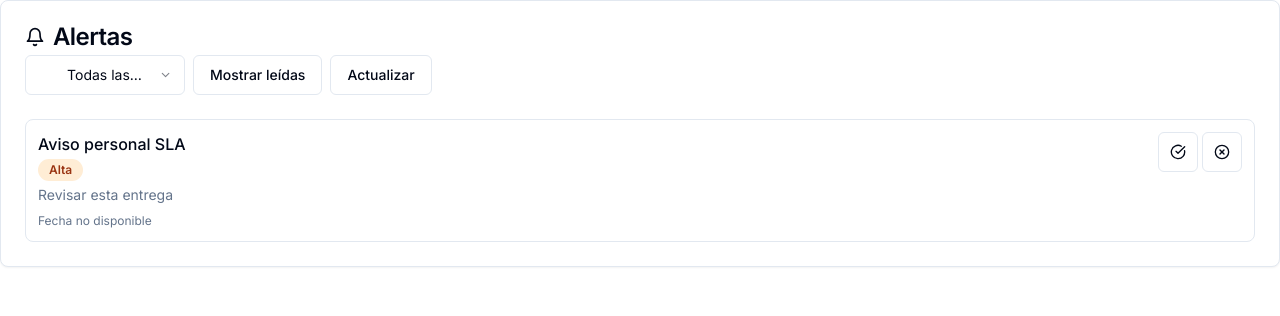
discard uses DELETE and keeps the row visible after a rejected request
The image size is (1280, 316).
Check: the text "Aviso personal SLA" is shown, box [38, 132, 186, 156]
Click the button titled "Descartar alerta".
click(1222, 152)  # box [1202, 132, 1242, 172]
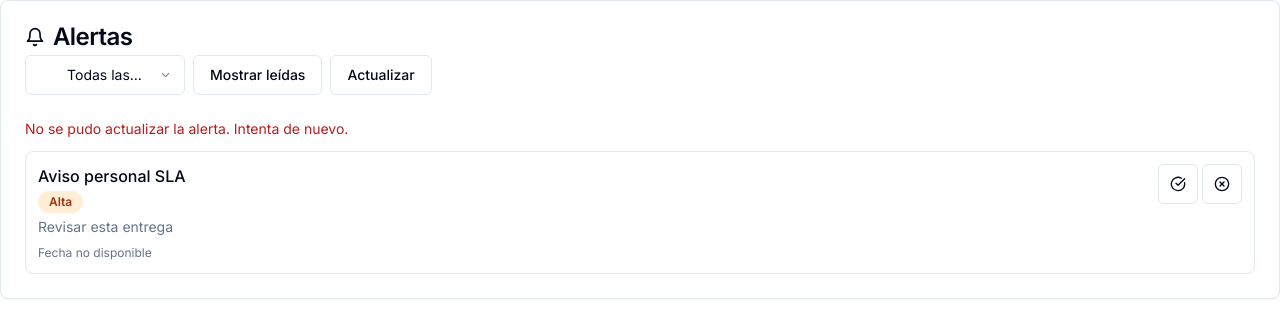
Check: the text "Aviso personal SLA" is shown, box [38, 164, 186, 188]
Check: the message shows "No se pudo actualizar", box [25, 120, 348, 137]
